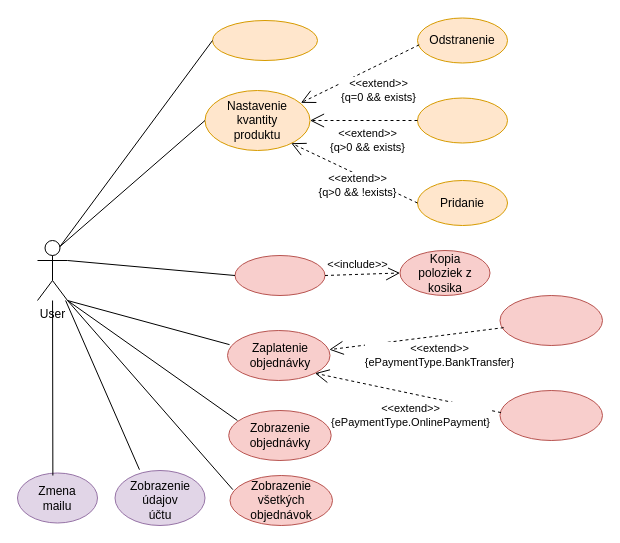
The diagram is 620 pixels wide and 543 high, and some of its shapes have lost their labels. The box of each missing label's shape, as (x1, y1, x2, y2) in pixels:
Aktualizovanie: (416, 97, 508, 143)
Bankovy prevod: (499, 294, 602, 346)
Online platba: (499, 390, 602, 440)
Vytvorenie objednávky: (234, 254, 325, 296)
Zobraz obsah košíka: (212, 20, 318, 60)
